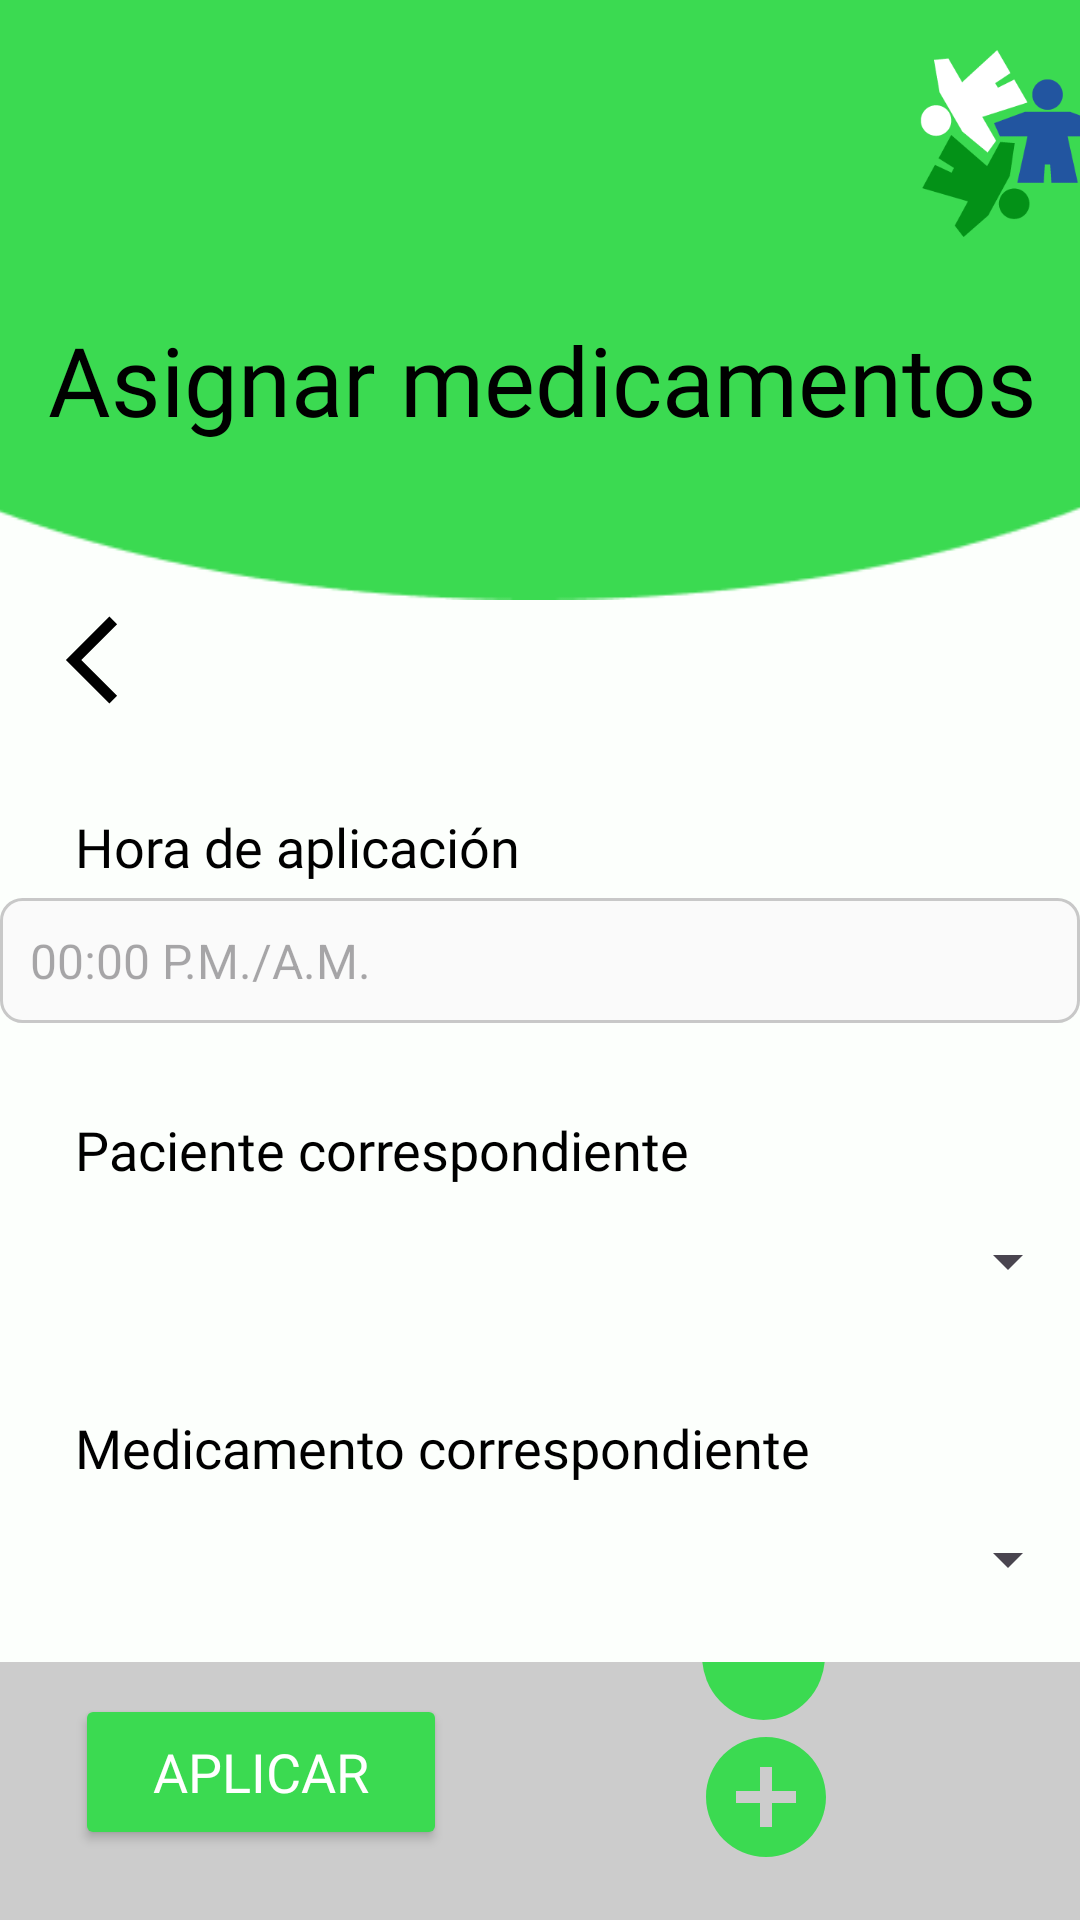

Icons on this 1080x1920 Android screen, each with its box as (x1, y1, x2, y2):
agregar: (706, 1737, 826, 1857)
